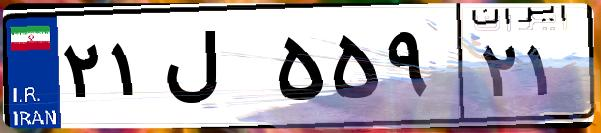1: (525, 38, 570, 115), (110, 28, 158, 98)
2: (57, 26, 110, 100), (475, 38, 525, 113)
5: (270, 28, 330, 110), (330, 28, 385, 110)
9: (385, 28, 445, 110)
ل: (158, 20, 270, 120)
